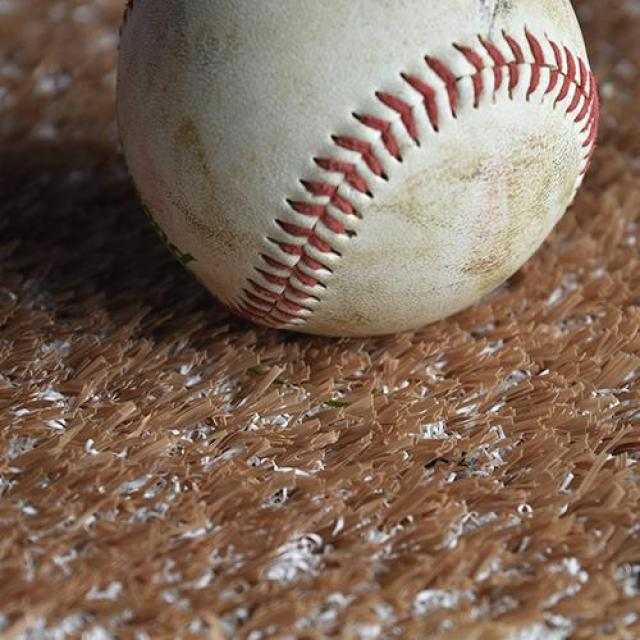baseball: (115, 1, 597, 341)
